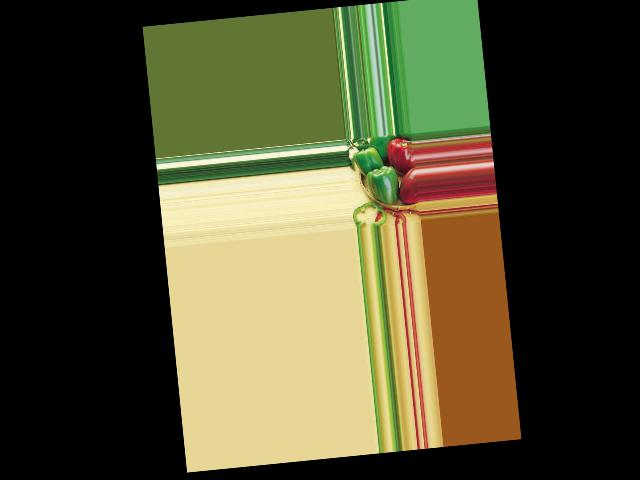bell_pepper: (398, 166, 418, 205)
